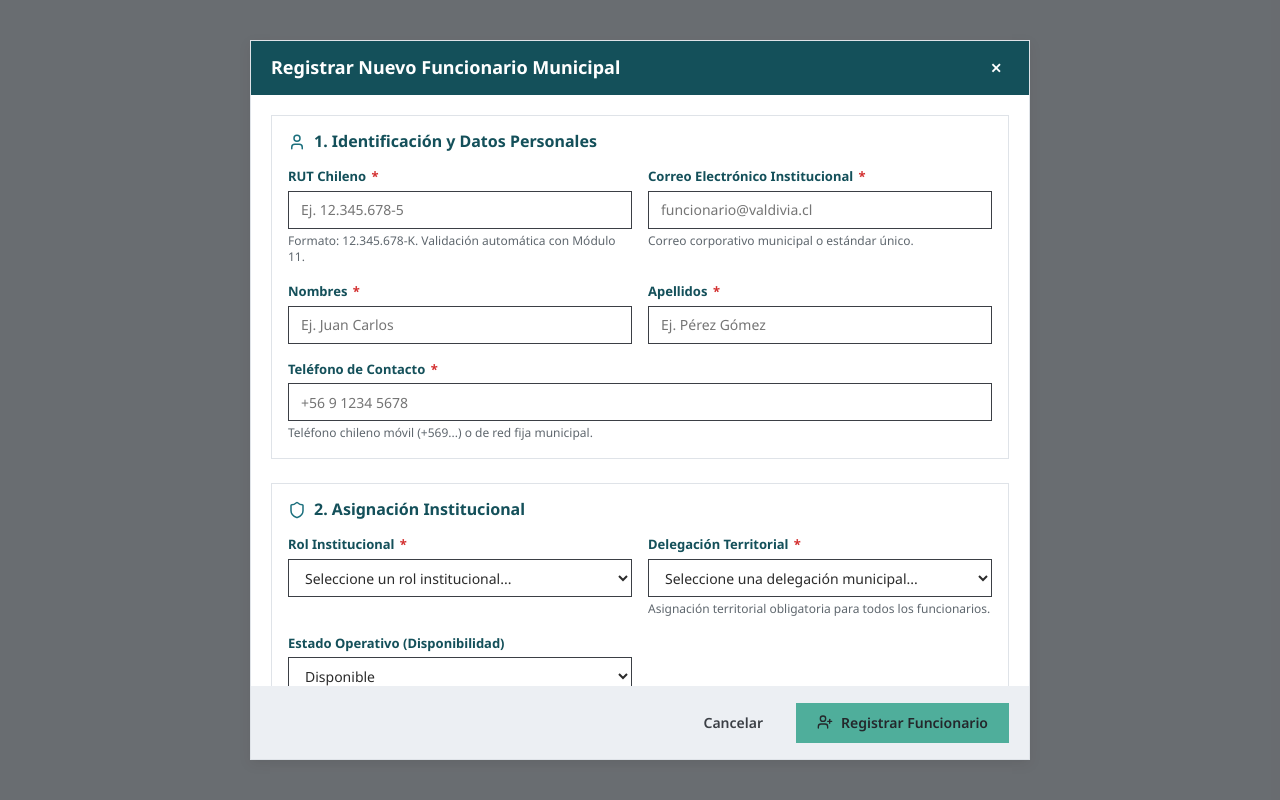
Test: RegistrarEmpleadoModal › debe validar en tiempo real el formato y dígito verificador del RUT con Módulo 11
The image size is (1280, 800).
Type "11.111.111-2" into the field labelled "RUT Chileno *" at (460, 210), box [288,191,632,229]
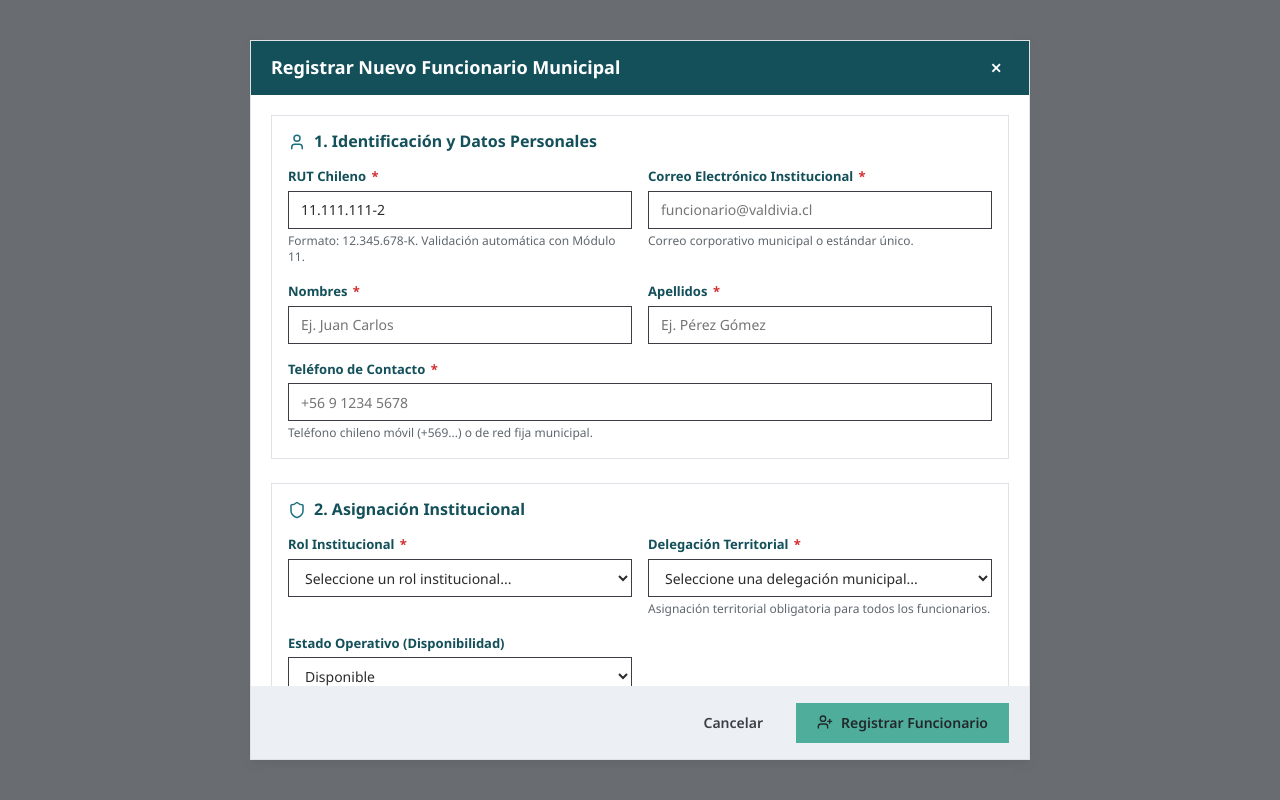
Click the button "Registrar Funcionario" at (902, 723), box [796,703,1009,743]
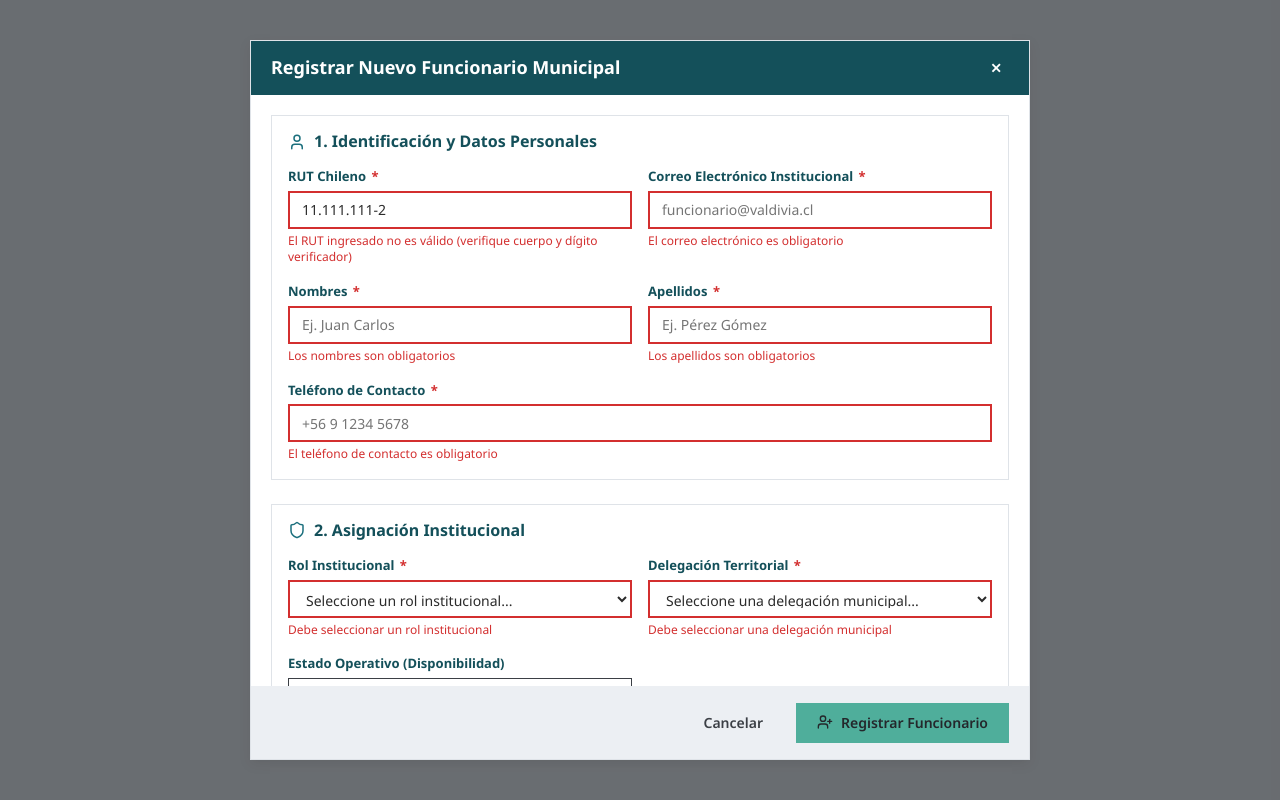
Check: the text "El RUT ingresado no es válido (verifique cuerpo y dígito verificador)" is shown, box [288,233,632,266]
Replace the text in the field labelled "RUT Chileno *" with "11.111.111-1" at (460, 210), box [288,191,632,229]
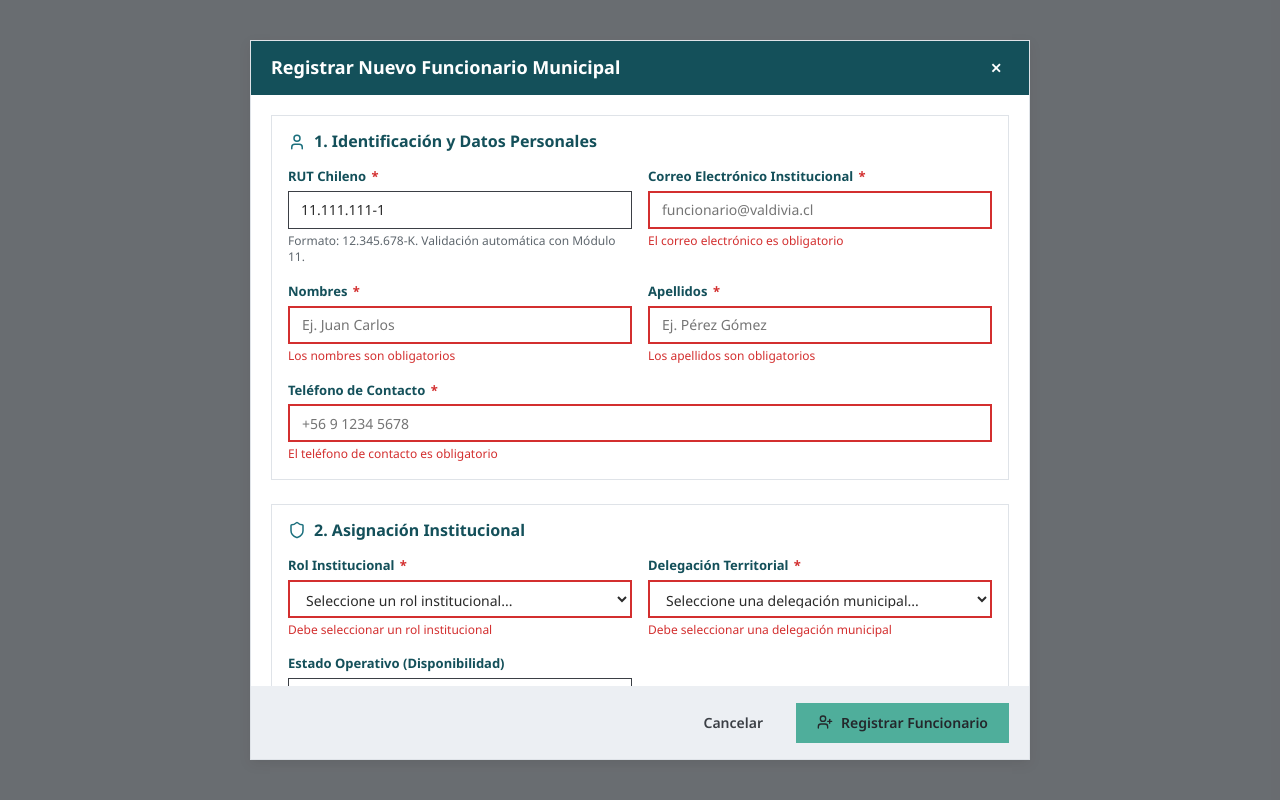
Check: the text "El RUT ingresado no es válido (verifique cuerpo y dígito verificador)" is gone
